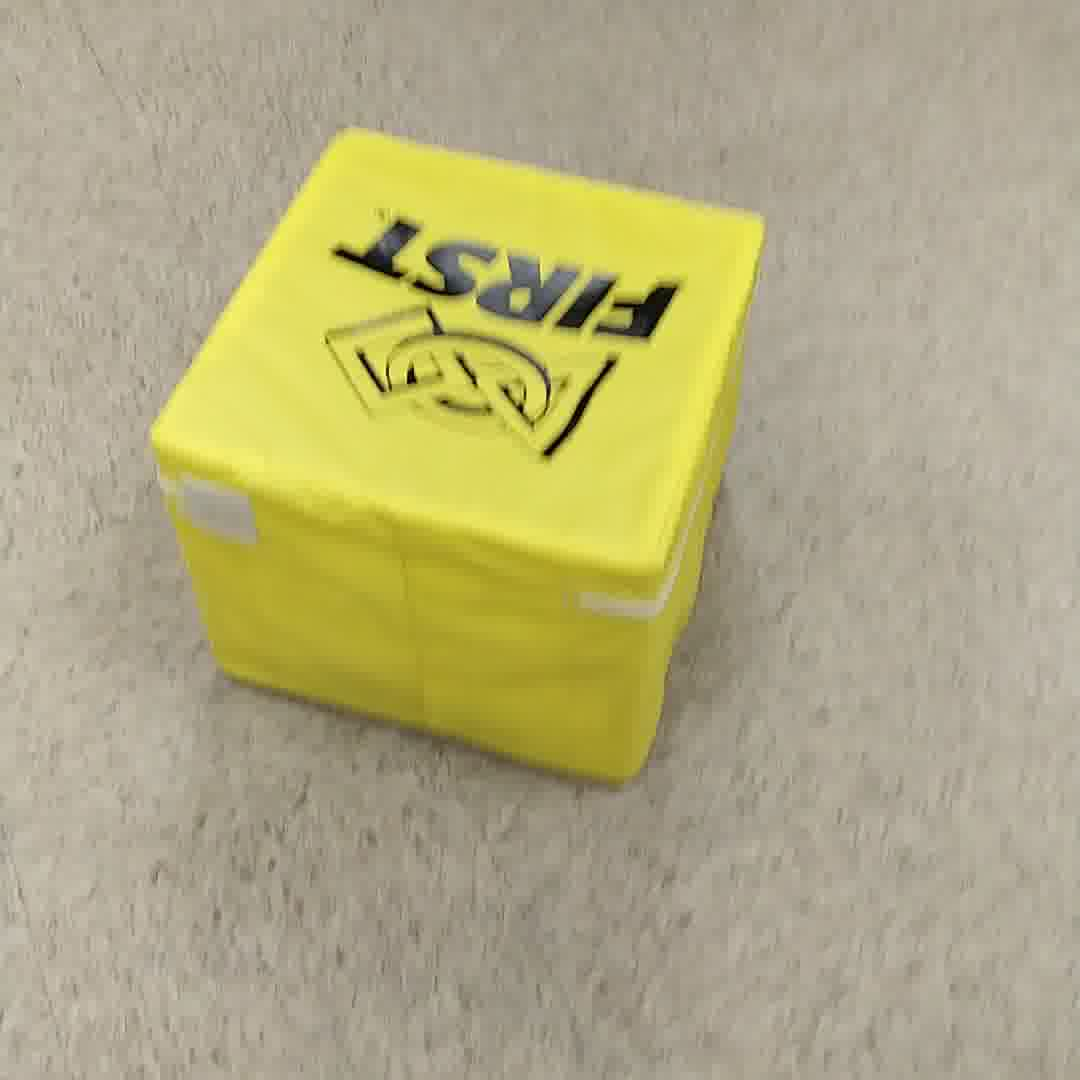box: (144, 112, 753, 801)
